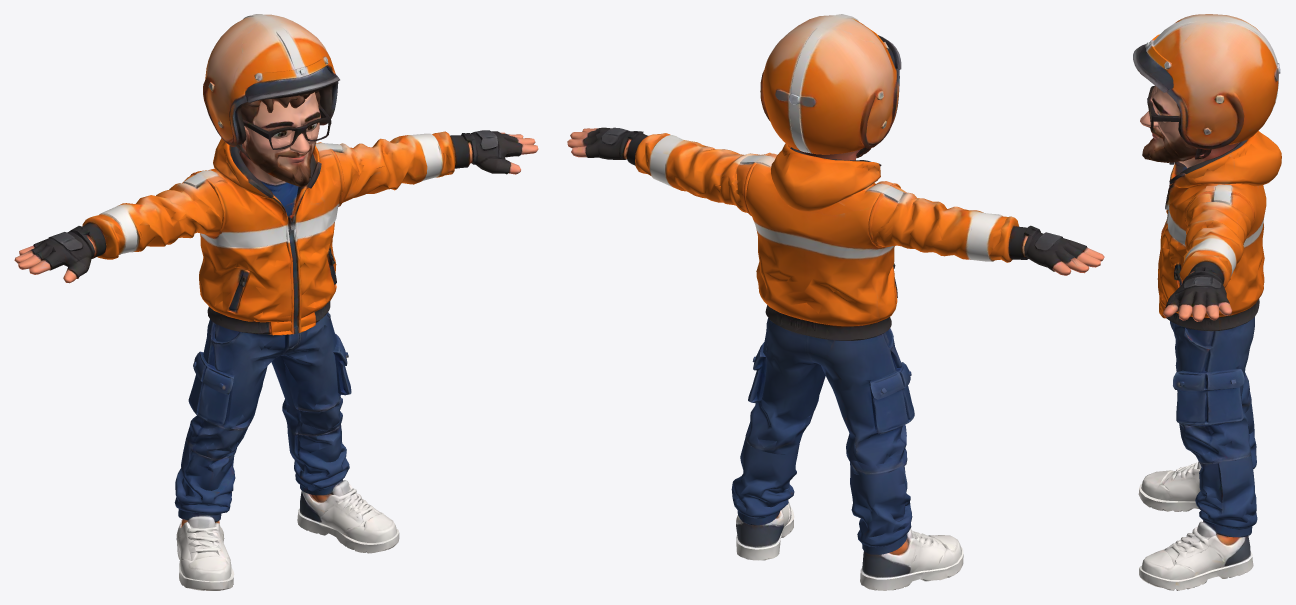
The model's file is charScooterRider.glb.
3 renders of one model, left to right at view 1: azimuth 30°, elevation 25°; view 2: azimuth 150°, elevation 25°; view 3: azimuth 270°, elevation 25°, orthographic. The views are drawn at different scales.
Parts seen in each view (by area): view 1: model; view 2: model; view 3: model.
Part boxes in pixels (x1,y1,x2,y2): model: [14, 14, 538, 590]; model: [567, 14, 1104, 590]; model: [1133, 14, 1281, 590].
Size of the model in its own units: 1.89 by 1.85 by 0.4763.
1 material, 1 textured.
